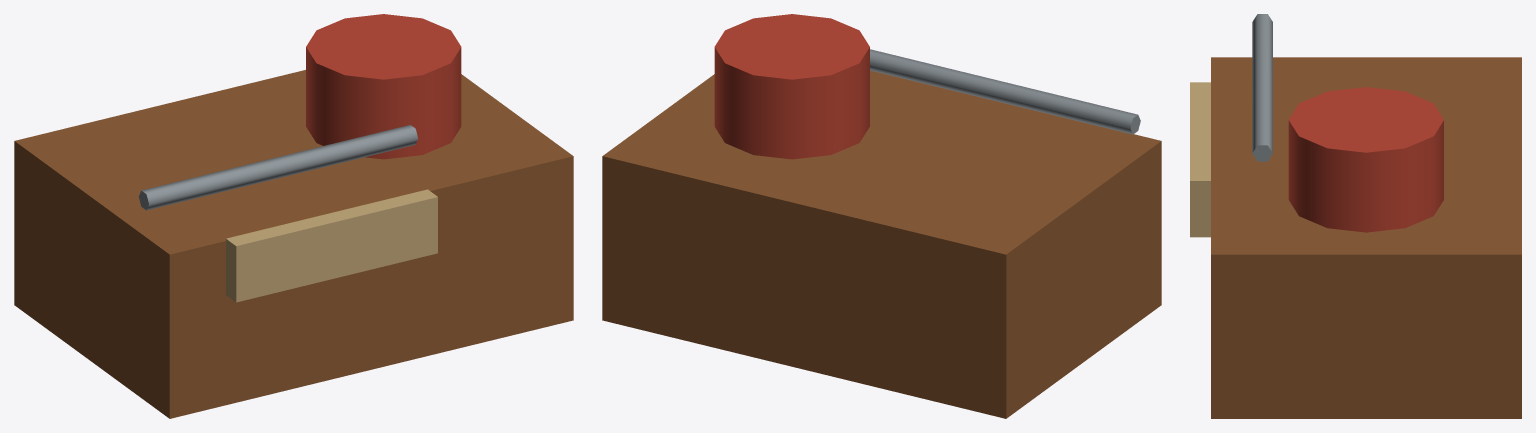
File: sewing_kit.glb
3 views of the same model, side by side, from view 1: azimuth 30°, elevation 25°; view 2: azimuth 150°, elevation 25°; view 3: azimuth 270°, elevation 25° (orthographic).
Parts seen in each view (by area): view 1: sewing_kit; view 2: sewing_kit; view 3: sewing_kit.
Part boxes in pixels (x1=…): sewing_kit: x1=14, y1=14, x2=573, y2=418; sewing_kit: x1=602, y1=14, x2=1161, y2=418; sewing_kit: x1=1190, y1=14, x2=1521, y2=418.
Bounding box in the file's own units: 0.09 × 0.052 × 0.064.
